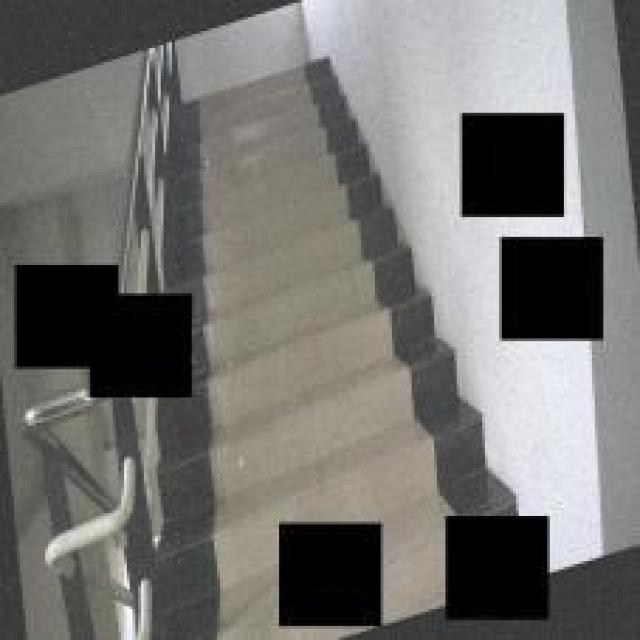upstair: (164, 83, 393, 289)
